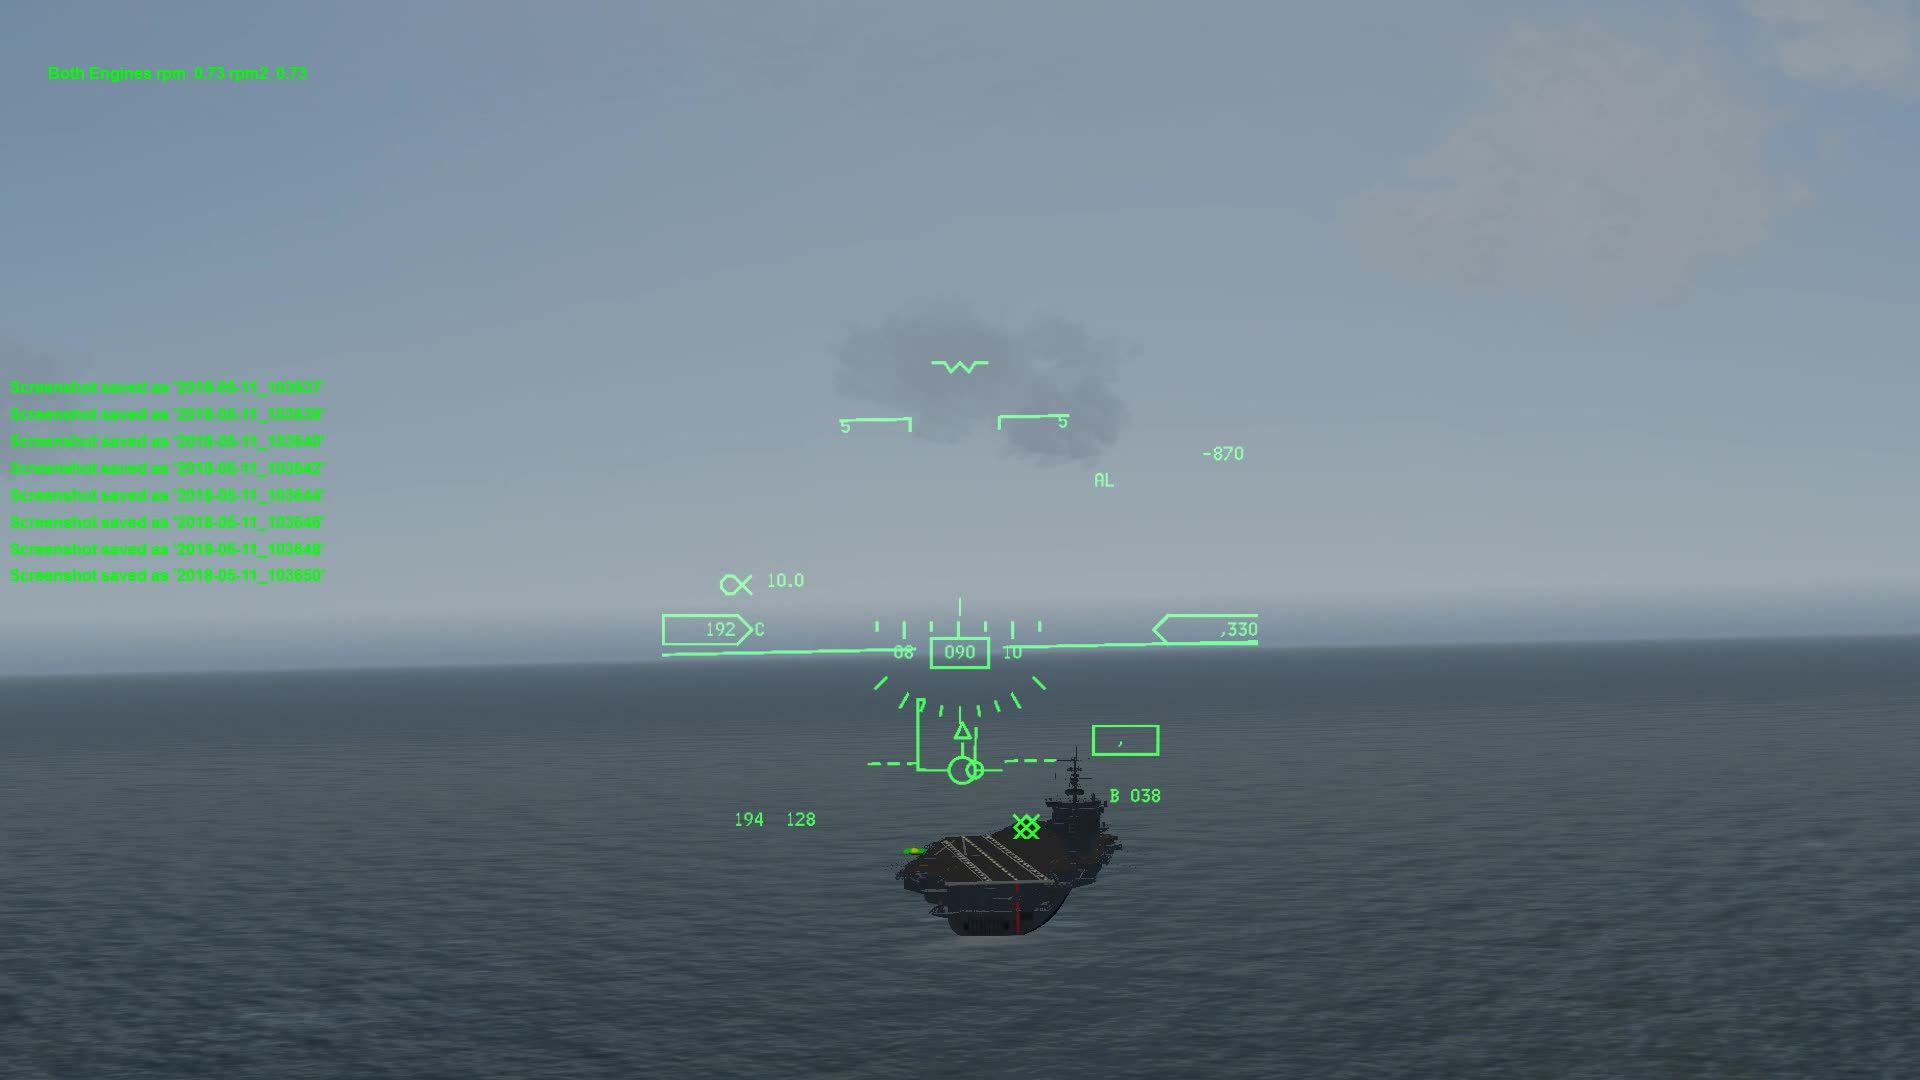speed vector: (924, 742, 1002, 794)
